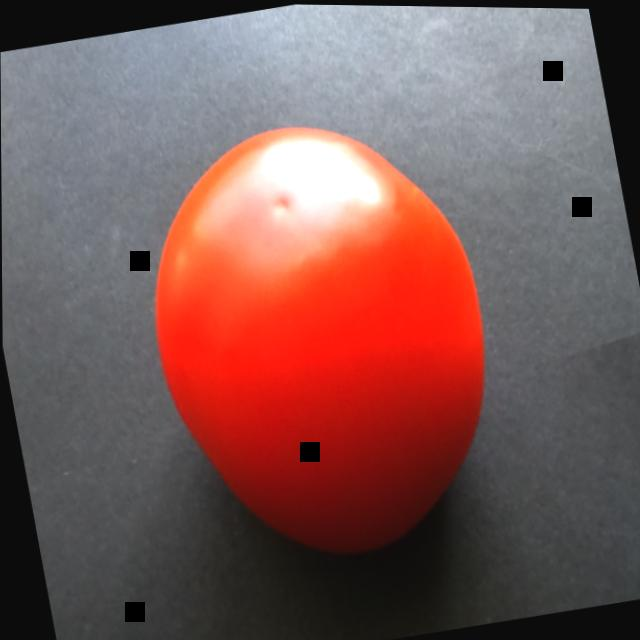Tomato: (75, 40, 574, 635)
